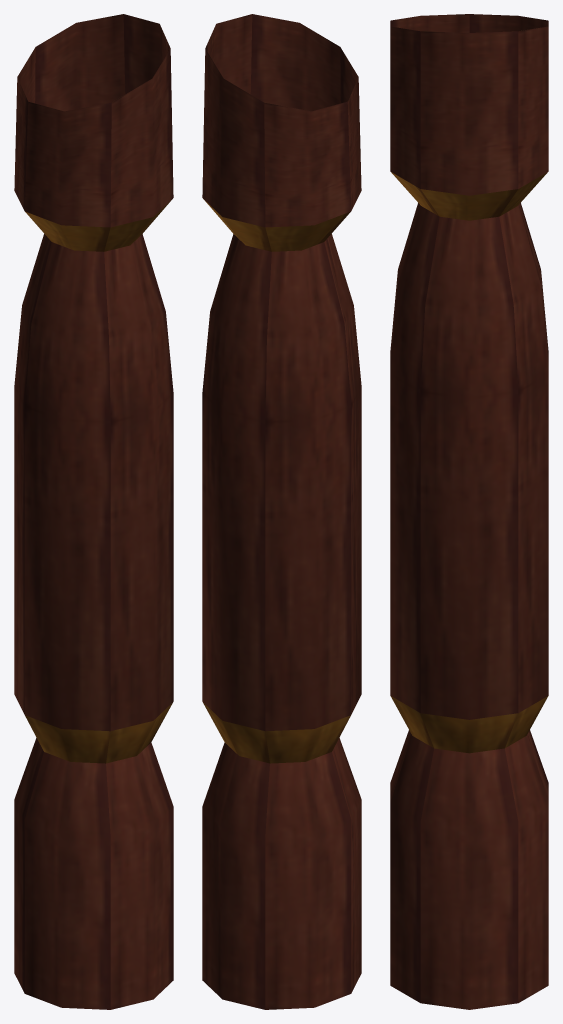
File: Kit_Pillar_01.FBX
The picture shows the model from 3 angles, left to right: view 1: azimuth 30°, elevation 25°; view 2: azimuth 150°, elevation 25°; view 3: azimuth 270°, elevation 25°; orthographic projection. The views are drawn at different scales.
Visible parts, largest first — view 1: Kit_Pillar_01; view 2: Kit_Pillar_01; view 3: Kit_Pillar_01.
Part boxes in pixels (x1,y1,x2,y2): Kit_Pillar_01: [14, 14, 173, 1009]; Kit_Pillar_01: [202, 14, 361, 1009]; Kit_Pillar_01: [390, 14, 548, 1009].
Bounding box in the file's own units: 0.3857 × 0.3668 × 2.49.
